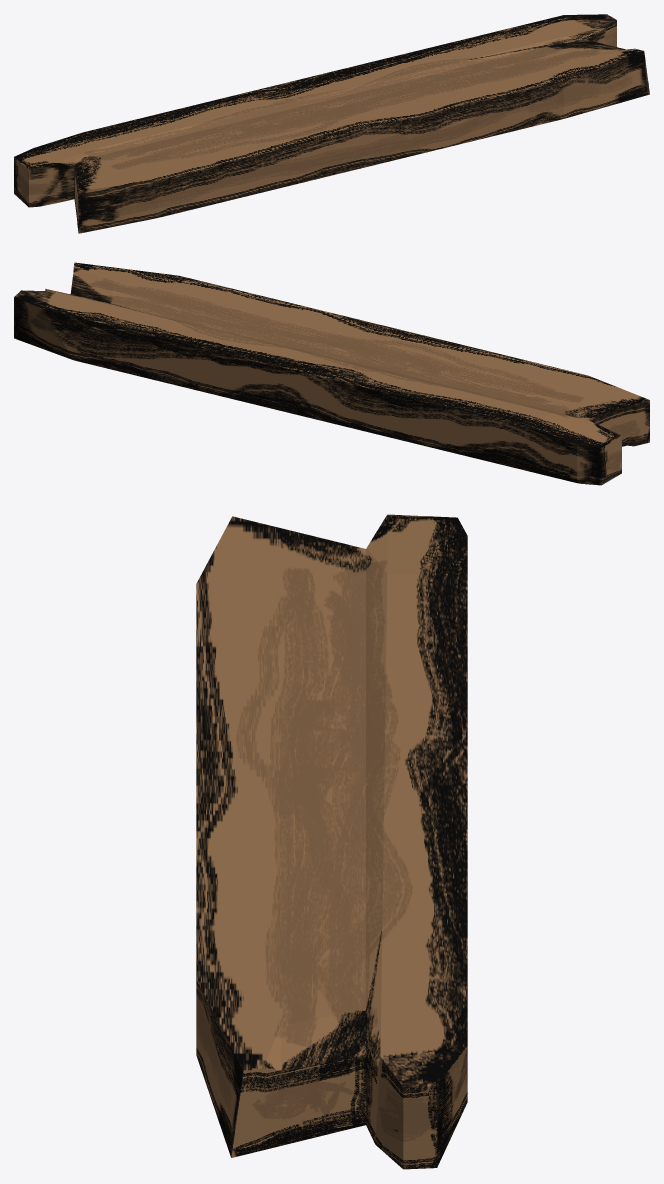
The model's file is Plank4.fbx.
The picture shows the model from 3 angles, top to bottom: view 1: azimuth 30°, elevation 25°; view 2: azimuth 150°, elevation 25°; view 3: azimuth 270°, elevation 25°; orthographic projection. The views are drawn at different scales.
Parts seen in each view (by area): view 1: Cube.002; view 2: Cube.002; view 3: Cube.002.
Part boxes in pixels (x1,y1,x2,y2): Cube.002: [14, 14, 649, 233]; Cube.002: [14, 262, 649, 485]; Cube.002: [196, 514, 467, 1169].
Size of the model in its own units: 881 by 62.32 by 175.
Materials: 1 (1 with a texture image).
